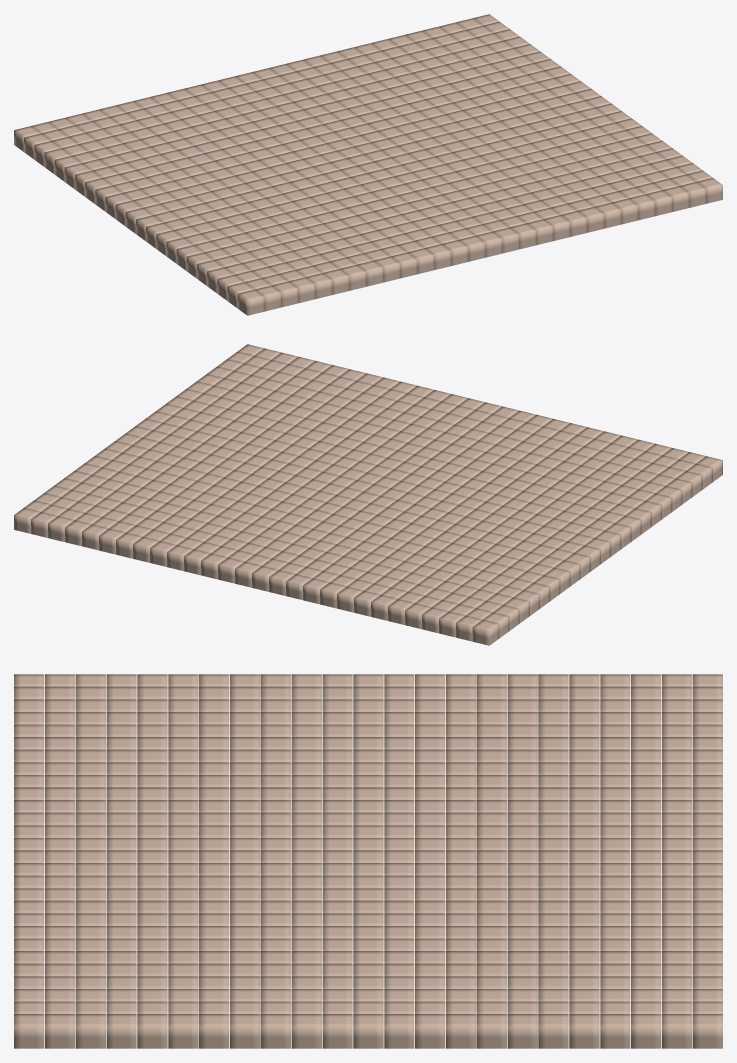
File: square_streetpatch.fbx
3 renders of one model, top to bottom at view 1: azimuth 30°, elevation 25°; view 2: azimuth 150°, elevation 25°; view 3: azimuth 270°, elevation 25°, orthographic. The views are drawn at different scales.
Visible parts, largest first — view 1: square_streetpoatch; view 2: square_streetpoatch; view 3: square_streetpoatch.
Part boxes in pixels (bbox=[...]): square_streetpoatch: bbox=[14, 14, 722, 315]; square_streetpoatch: bbox=[14, 344, 722, 645]; square_streetpoatch: bbox=[14, 674, 722, 1048].
Bounding box in the file's own units: 675 × 20 × 575.
